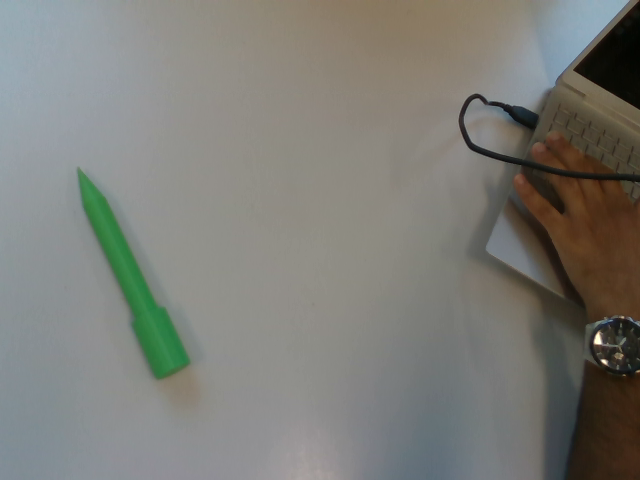Probe: (73, 160, 196, 386)
